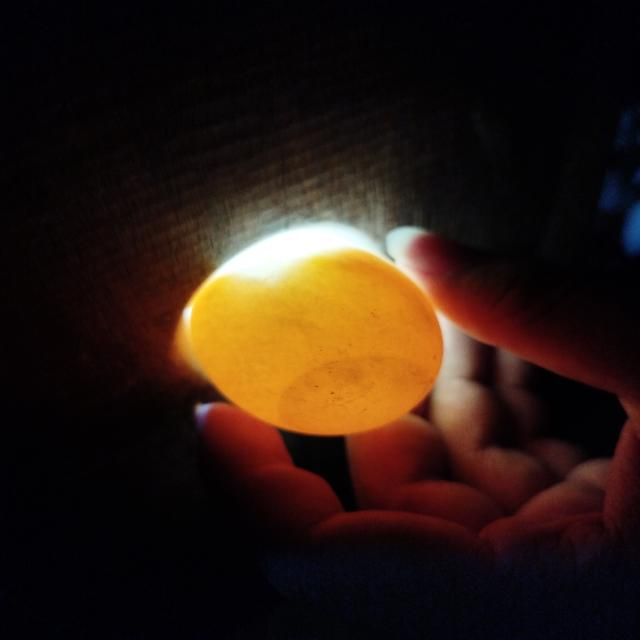Camara de Ar: (278, 357, 435, 434)
